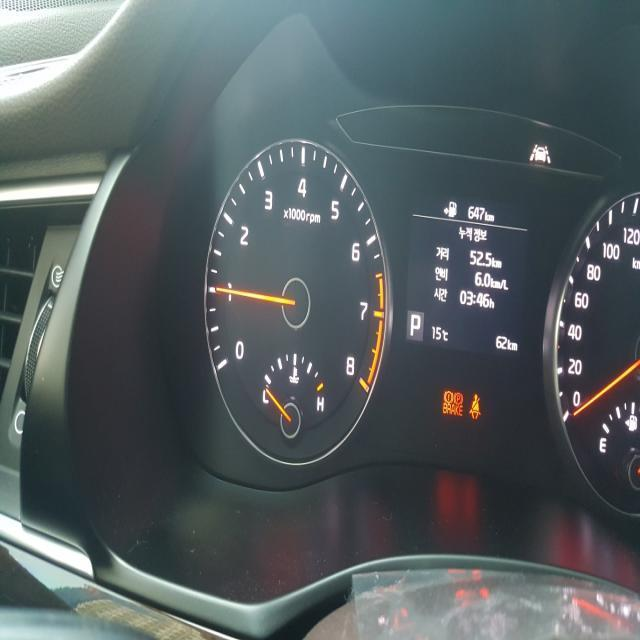LaneCenteringOff: (528, 142, 550, 164)
